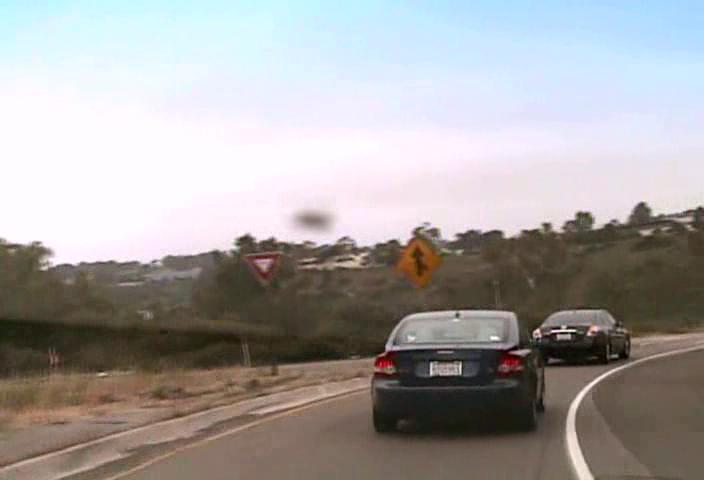yield: (243, 249, 284, 286)
